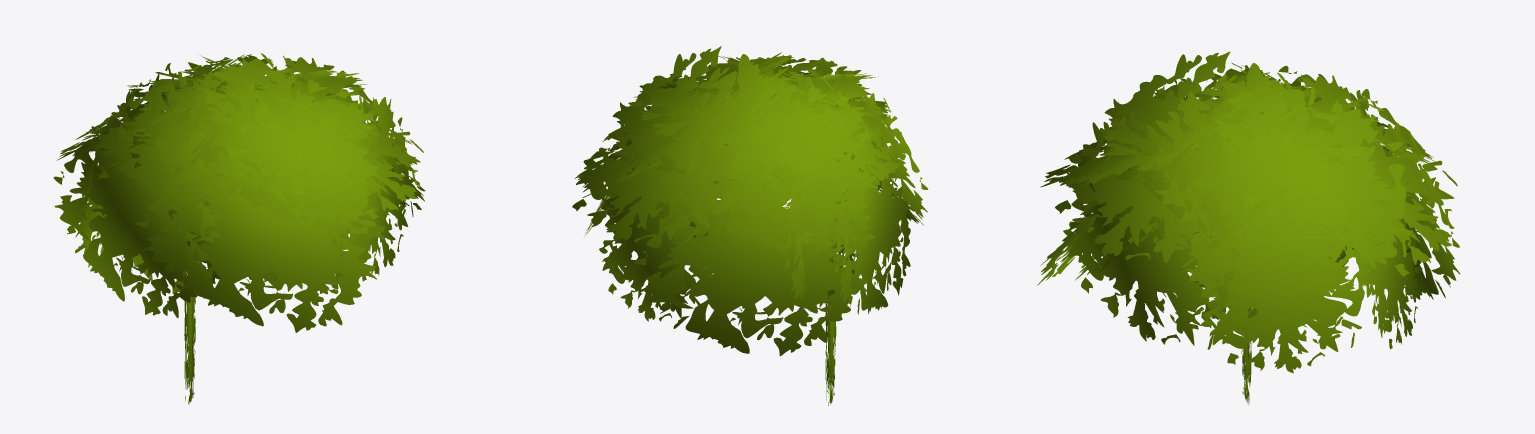
The model's file is TreeTopTest.fbx.
The picture shows the model from 3 angles, left to right: view 1: azimuth 30°, elevation 25°; view 2: azimuth 150°, elevation 25°; view 3: azimuth 270°, elevation 25°; orthographic projection. The views are drawn at different scales.
Visible parts, largest first — view 1: Plane.001, Plane.002; view 2: Plane.001, Plane.002; view 3: Plane.001, Plane.002.
Part boxes in pixels (<box>): Plane.001: <box>53,53,425,332</box>; Plane.002: <box>184,272,195,404</box>; Plane.001: <box>572,46,928,356</box>; Plane.002: <box>825,257,836,406</box>; Plane.001: <box>1037,51,1460,373</box>; Plane.002: <box>1241,307,1252,404</box>.
Bounding box in the file's own units: 5650 × 5195 × 6229.
